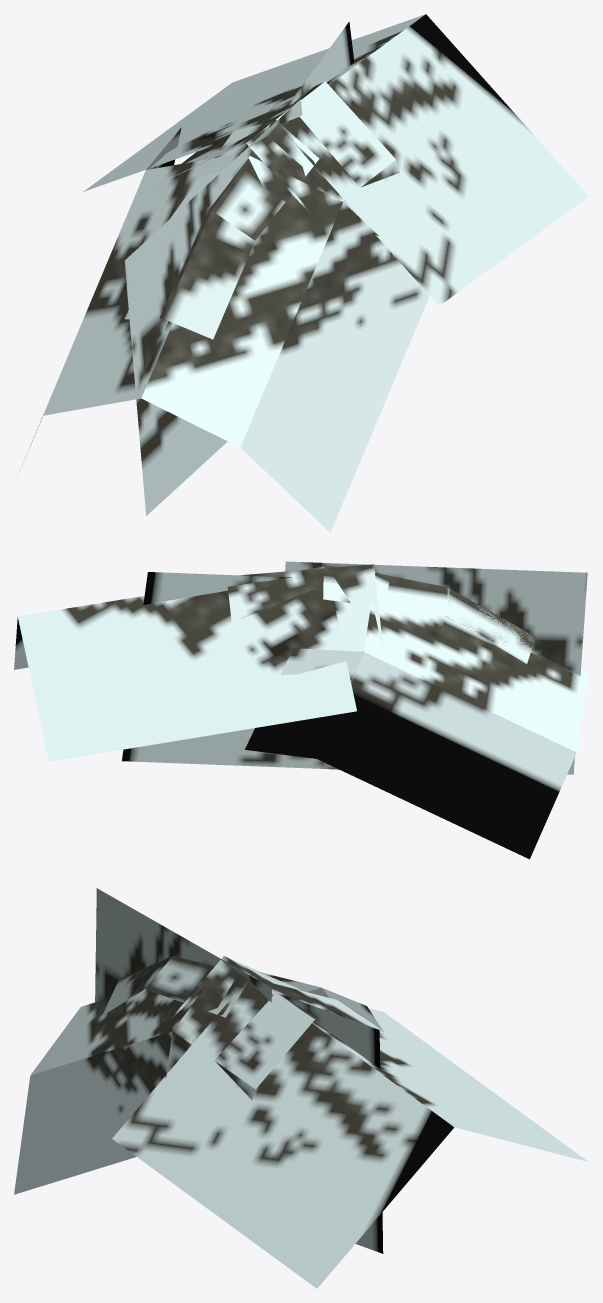
Rendered from spruce_branch_dead_3.obj.
3 renders of one model, top to bottom at view 1: azimuth 30°, elevation 25°; view 2: azimuth 150°, elevation 25°; view 3: azimuth 270°, elevation 25°, orthographic. The views are drawn at different scales.
Parts seen in each view (by area): view 1: plane, cube; view 2: plane, cube; view 3: plane, cube.
Boxes of the visible parts, x1=… form: plane: x1=22, y1=14, x2=588, y2=532; cube: x1=124, y1=22, x2=354, y2=515; plane: x1=14, y1=564, x2=588, y2=859; cube: x1=122, y1=561, x2=587, y2=774; plane: x1=14, y1=956, x2=588, y2=1288; cube: x1=95, y1=888, x2=383, y2=1253.
Size of the model in its own units: 2.51 by 1.2 by 2.3.
